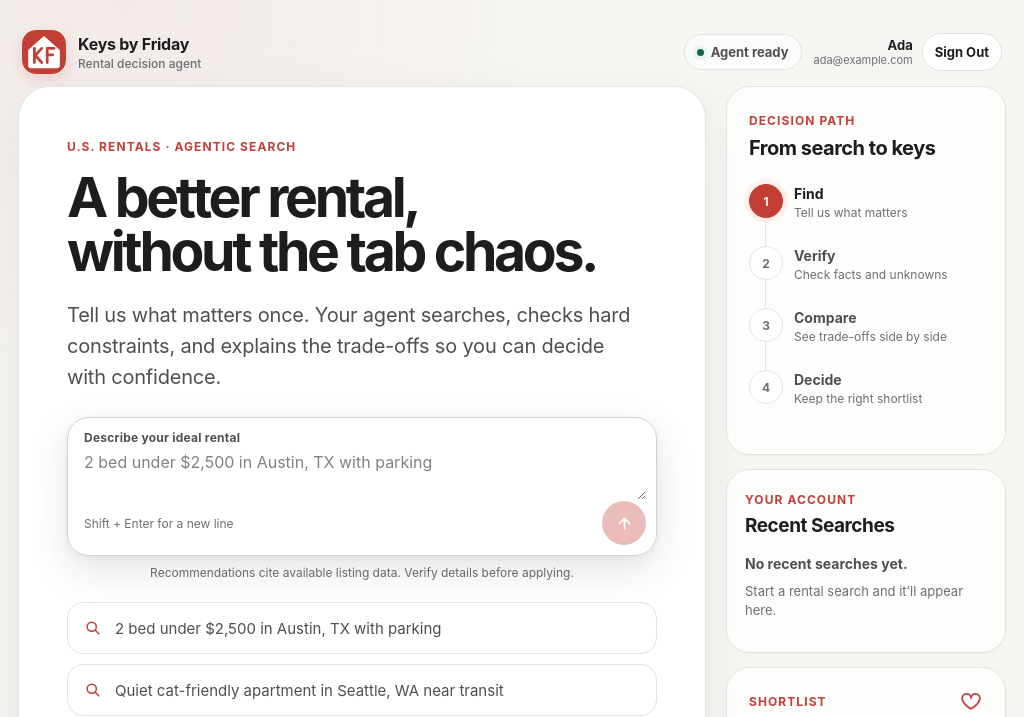
does not turn a successful chat result into an error when history refresh fails
This screenshot has width=1024, height=717.
Type "Find one home" into the text box labelled "Describe your ideal rental".
click(365, 473); type("Find one home")  # box [84, 445, 646, 500]
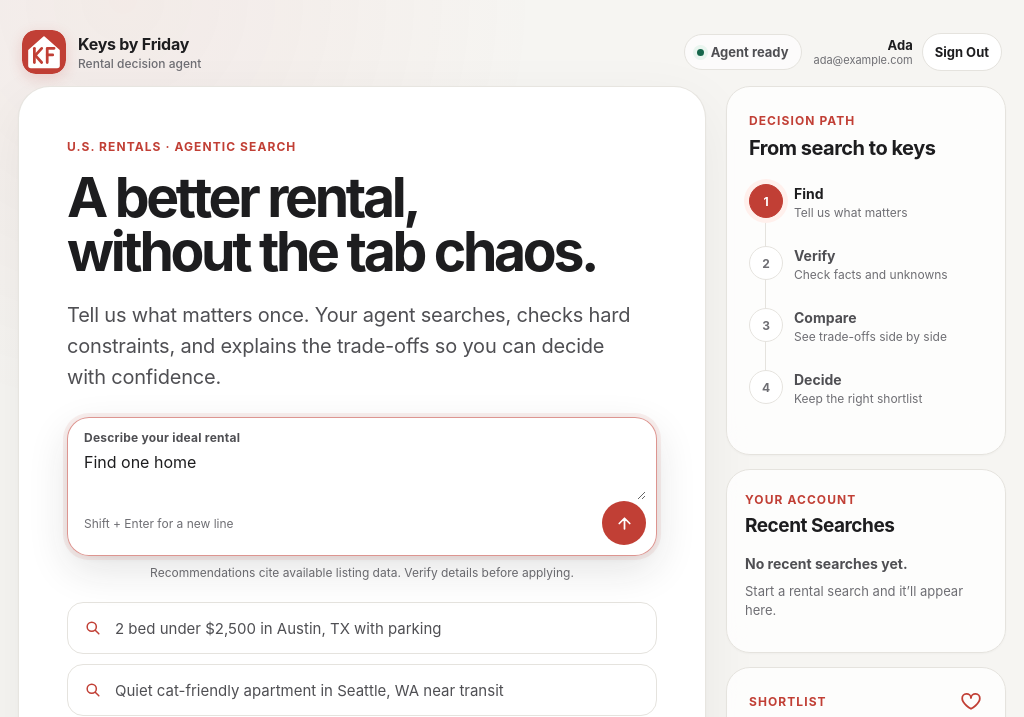
Click the button named "Ask rental agent".
click(624, 523)  # box [602, 501, 646, 545]
(page scrolled)
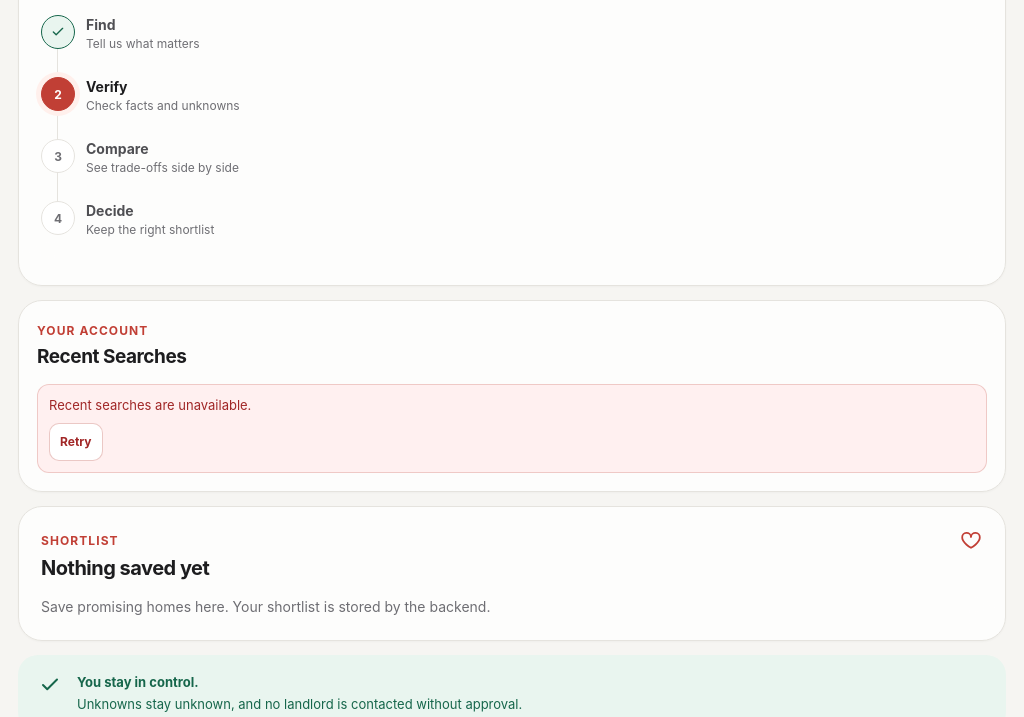
Result: the text "Recent searches are unavailable." is shown at [49, 397, 251, 413]
